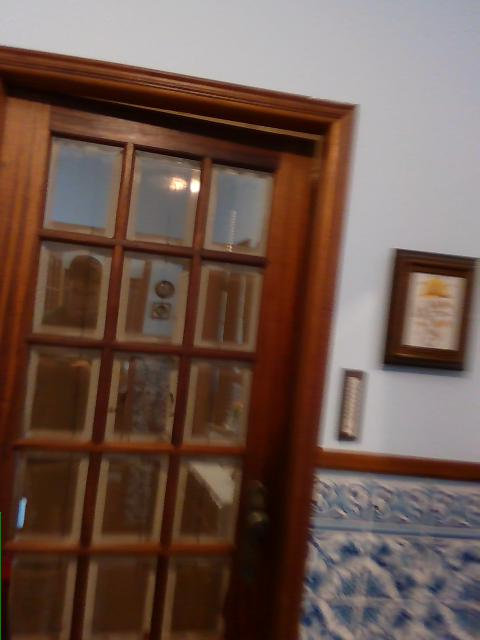door: (0, 42, 355, 639)
